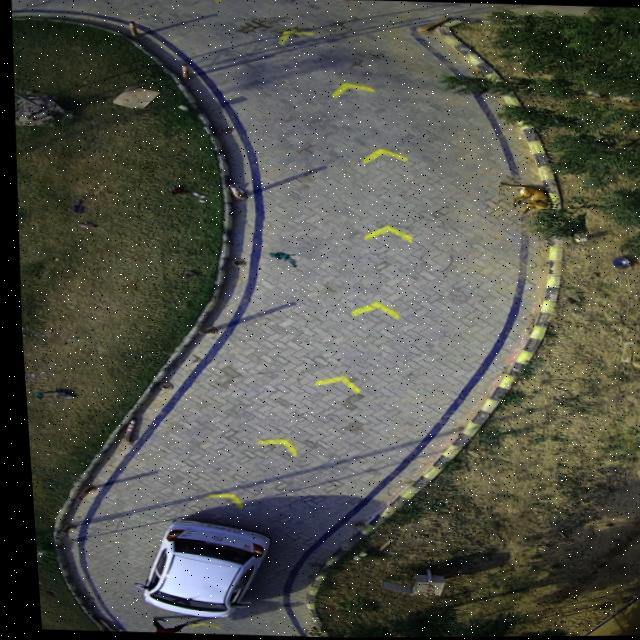car: (134, 517, 263, 619)
